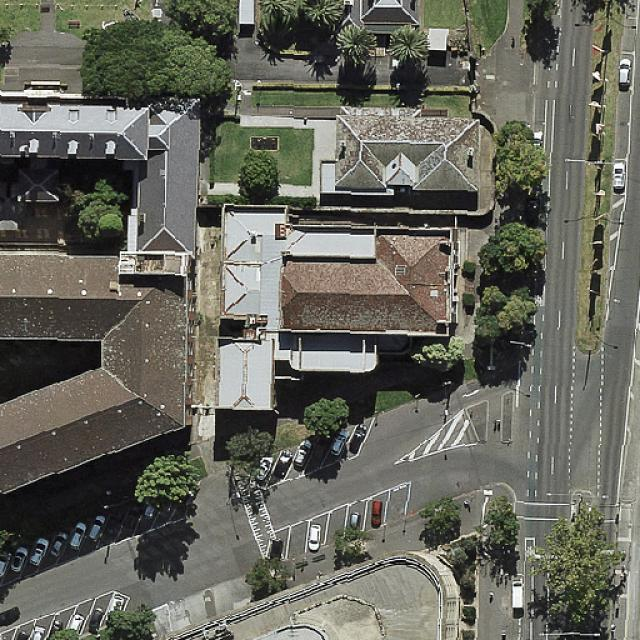Bike-Symbols: (534, 295, 544, 307), (526, 545, 534, 558)
